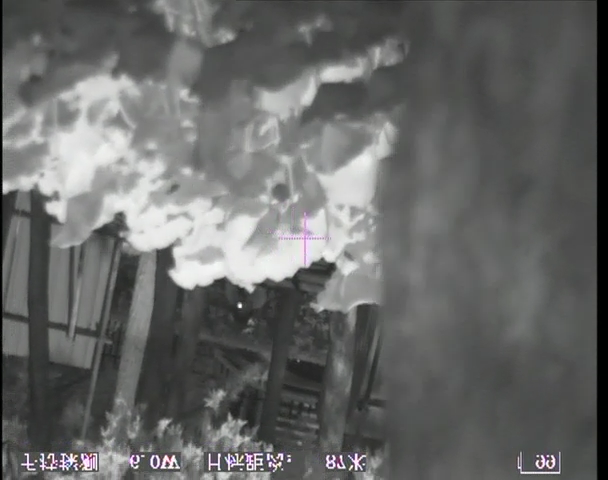my: (236, 300, 246, 312)
